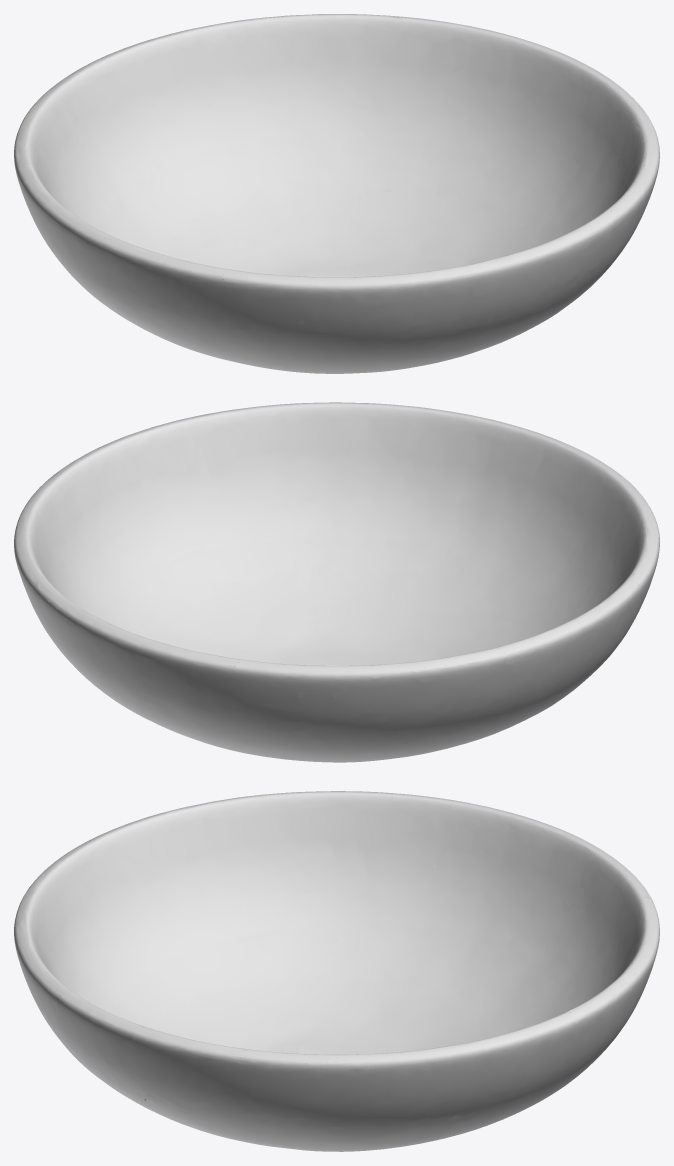
File: basin.glb
3 renders of one model, top to bottom at view 1: azimuth 30°, elevation 25°; view 2: azimuth 150°, elevation 25°; view 3: azimuth 270°, elevation 25°, orthographic.
Parts seen in each view (by area): view 1: Mesh_0; view 2: Mesh_0; view 3: Mesh_0.
Boxes of the visible parts, x1=… form: Mesh_0: x1=14, y1=14, x2=659, y2=373; Mesh_0: x1=14, y1=402, x2=659, y2=762; Mesh_0: x1=14, y1=791, x2=659, y2=1151.
Size of the model in its own units: 1.9 by 0.6044 by 1.9.
1 material, 1 textured.
